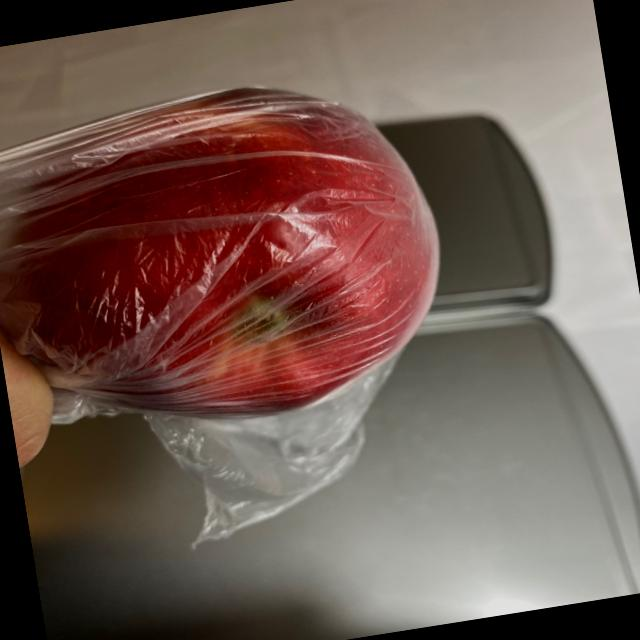apple: (0, 51, 472, 455)
